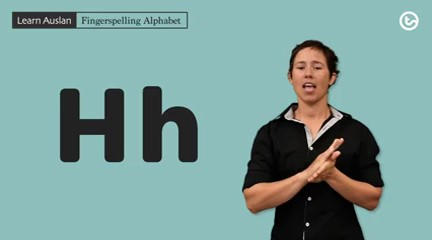H: (304, 136, 346, 188)
